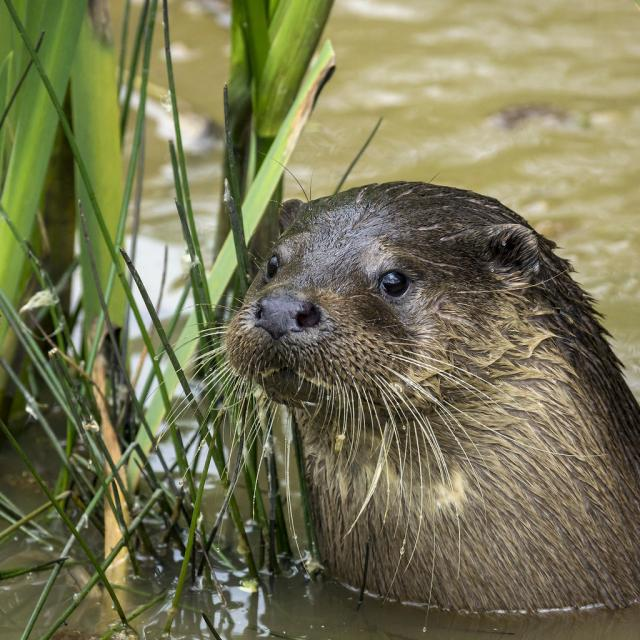otter: (228, 184, 640, 614)
